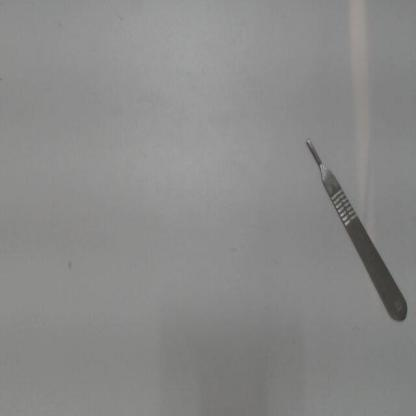No.3 BP Handle: (290, 126, 415, 334)
